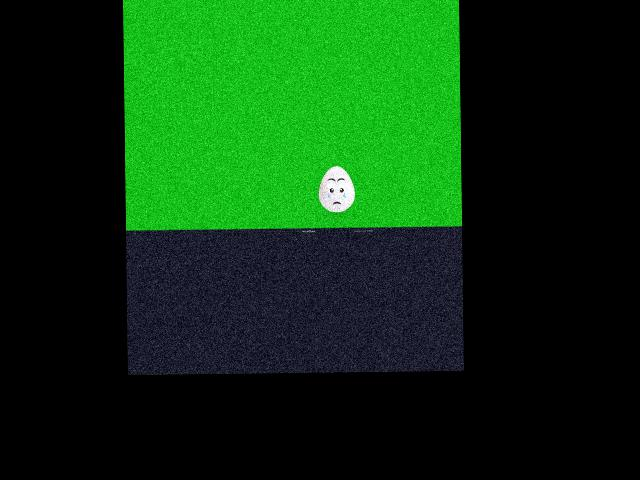egg: (318, 166, 355, 212)
